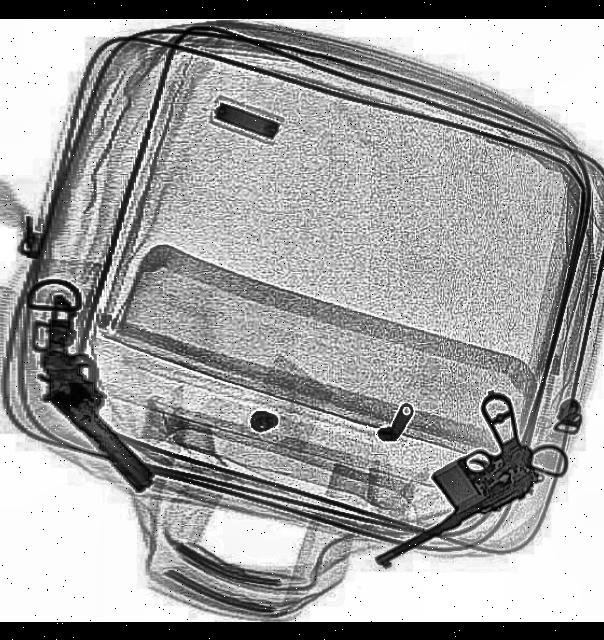Gun: (0, 291, 196, 500), (332, 387, 548, 571)
